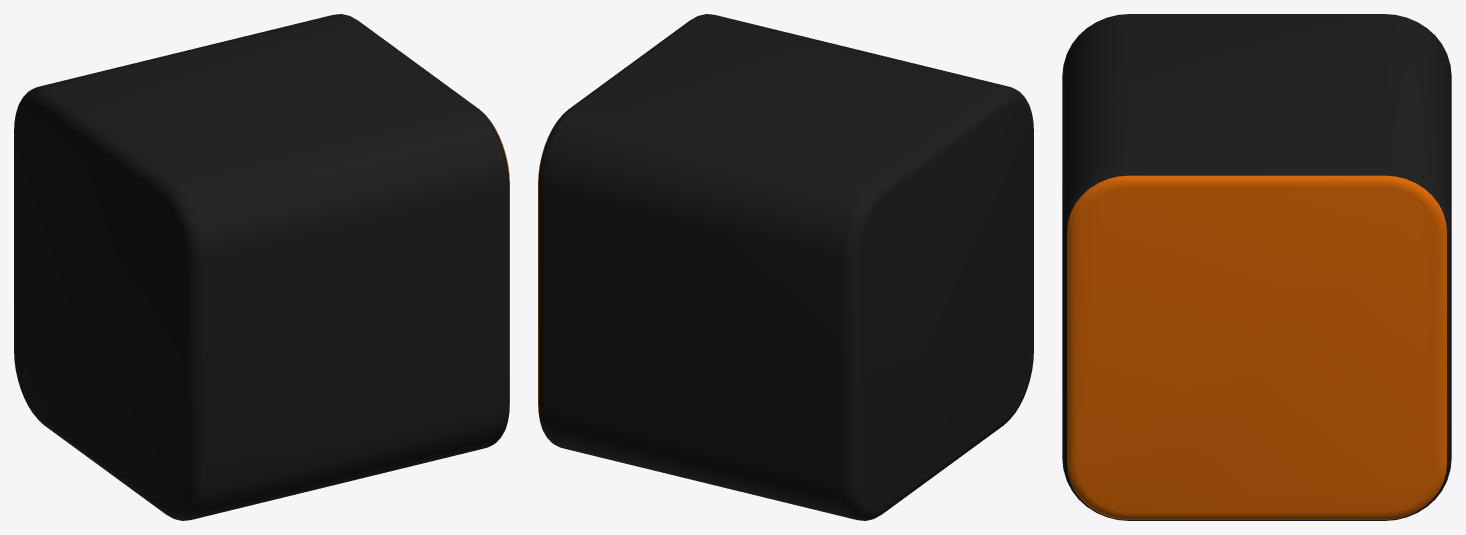
File: o_center.glb
3 views of the same model, side by side, from view 1: azimuth 30°, elevation 25°; view 2: azimuth 150°, elevation 25°; view 3: azimuth 270°, elevation 25° (orthographic). The views are drawn at different scales.
Visible parts, largest first — view 1: Cube.009; view 2: Cube.009; view 3: Cube.009.
Boxes of the visible parts, box(x1,y1,x2,y2) form: Cube.009: box(14, 14, 509, 520); Cube.009: box(538, 14, 1033, 520); Cube.009: box(1062, 14, 1451, 520).
Size of the model in its own units: 2 by 2 by 2.
